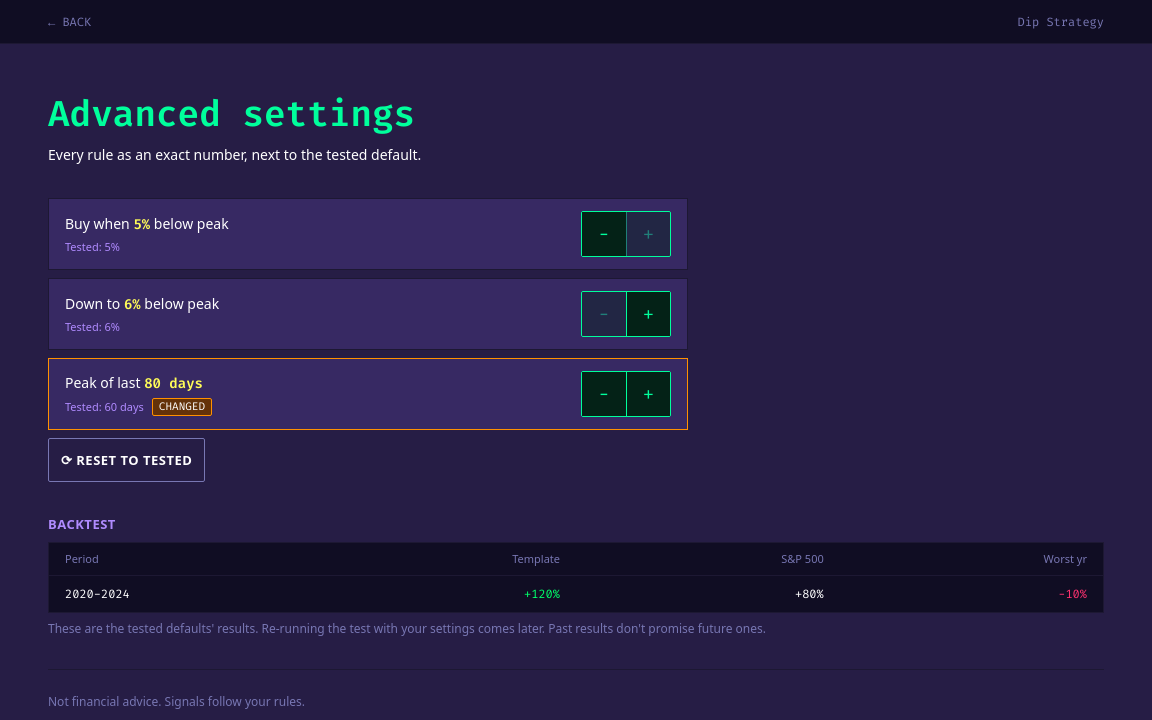
Scenario: StrategySettings › resets to tested defaults when Reset button is clicked
Check: the text "80 days" is shown, box [144, 374, 203, 392]
Click the button "⟳ Reset to tested" at [127, 460], box [48, 438, 205, 482]
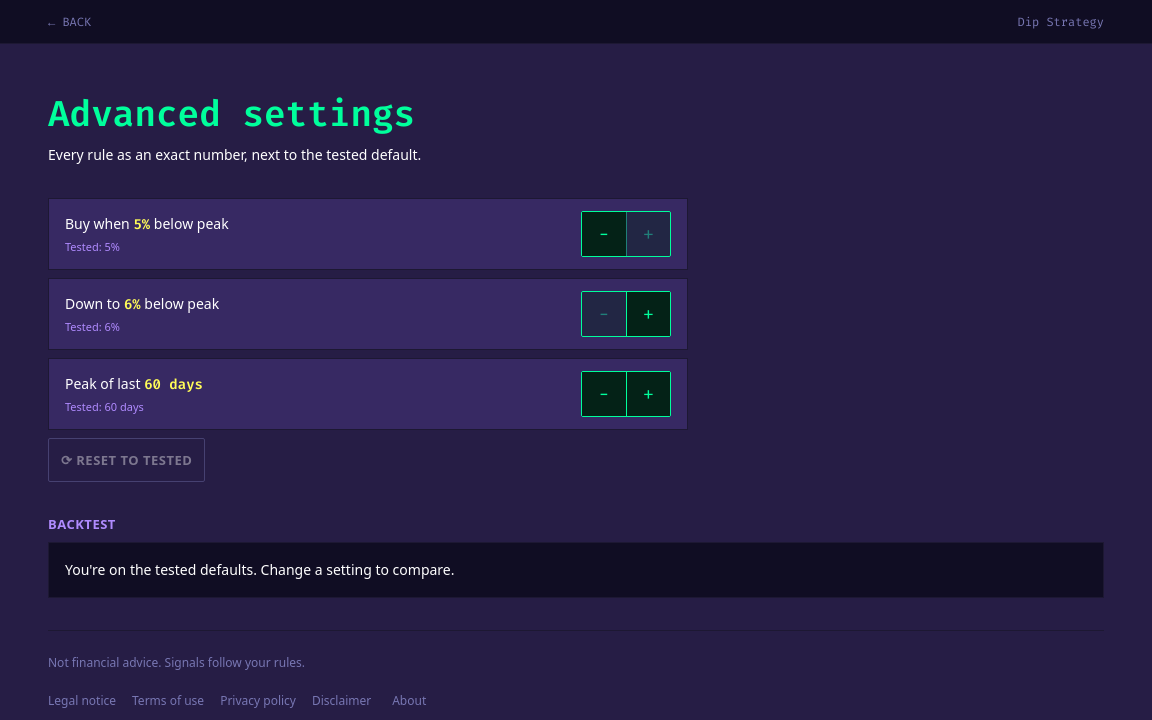
Check: the text "60 days" is shown, box [144, 374, 203, 394]
